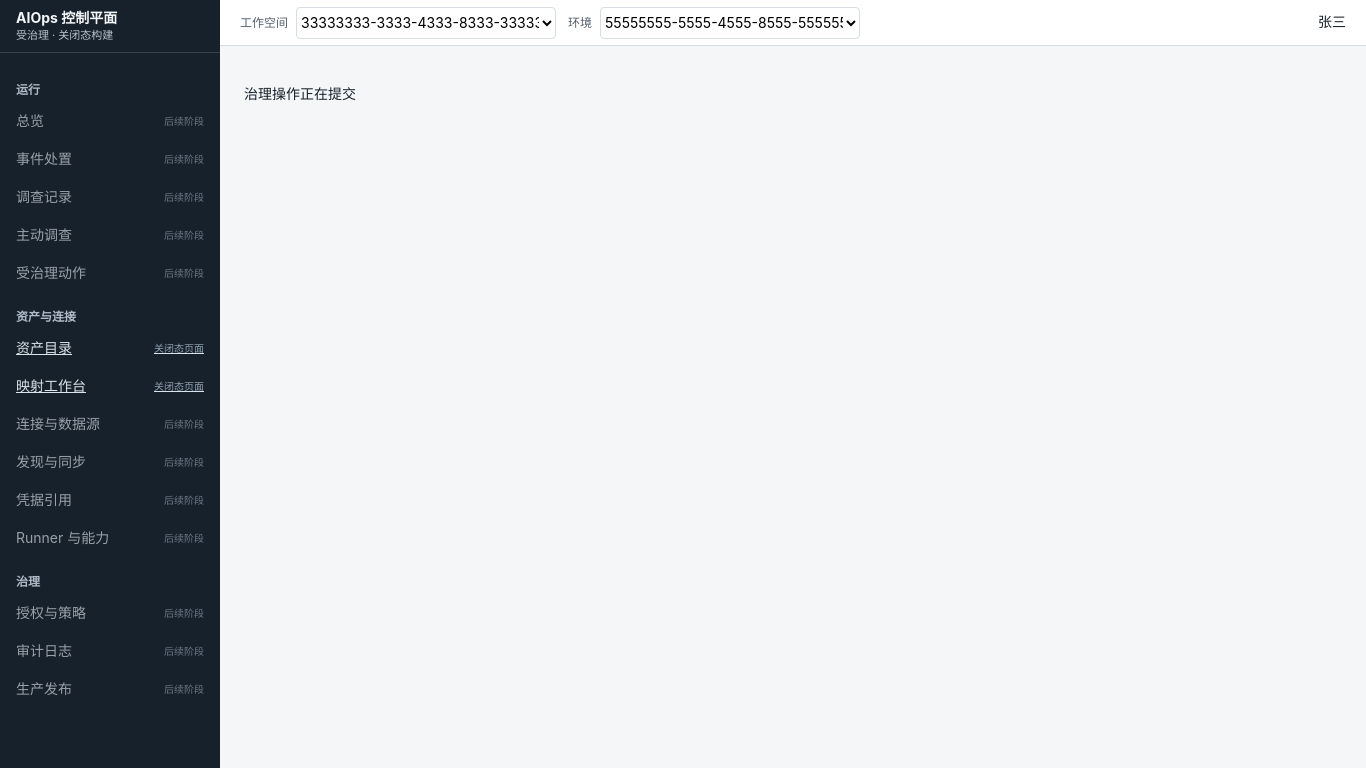
AppShell › keeps scoped queries when a dirty guard cannot be discarded
This screenshot has width=1366, height=768.
Step 1. Select "66666666-6666-4666-8666-666666666666" in the dropdown labelled "环境" → (730, 22), box [600,6,860,38]
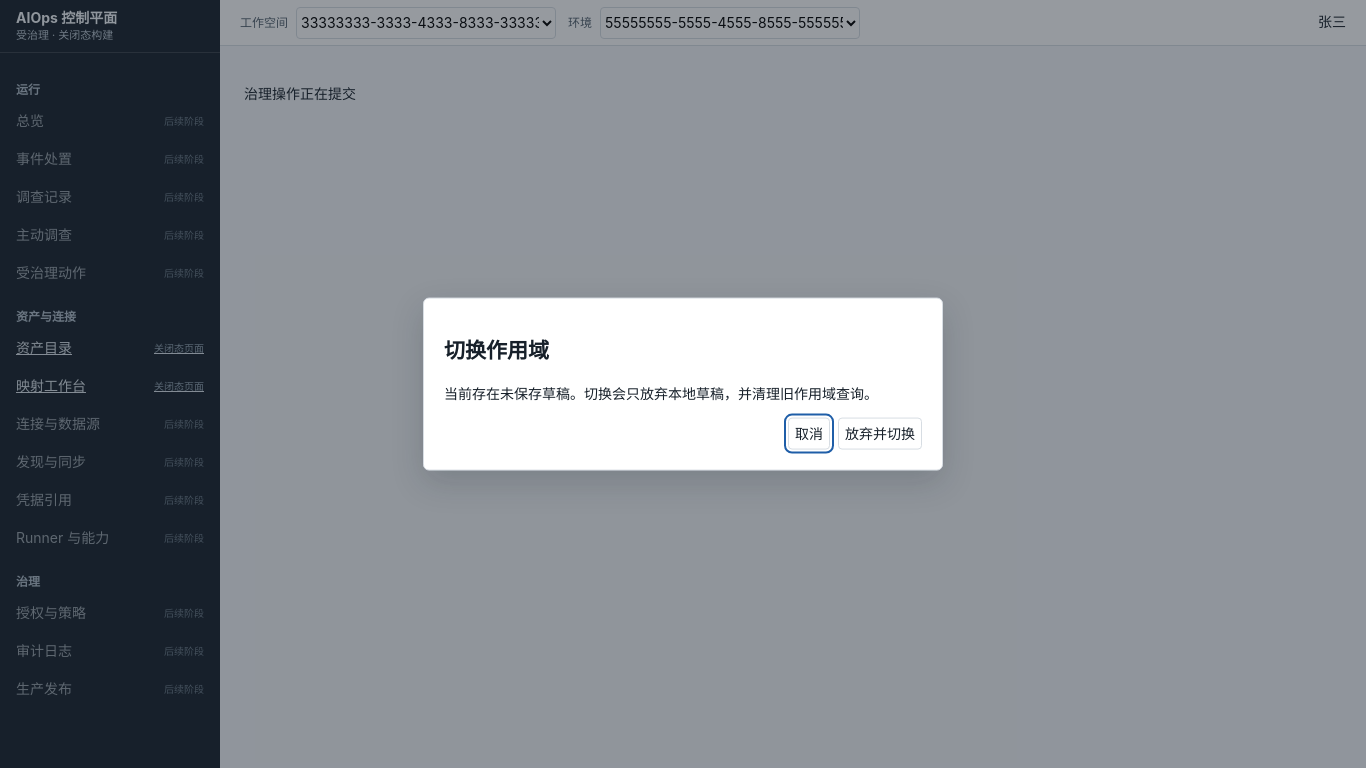
Step 2. Click the button "放弃并切换" → click(880, 433), box [838,417,922,449]
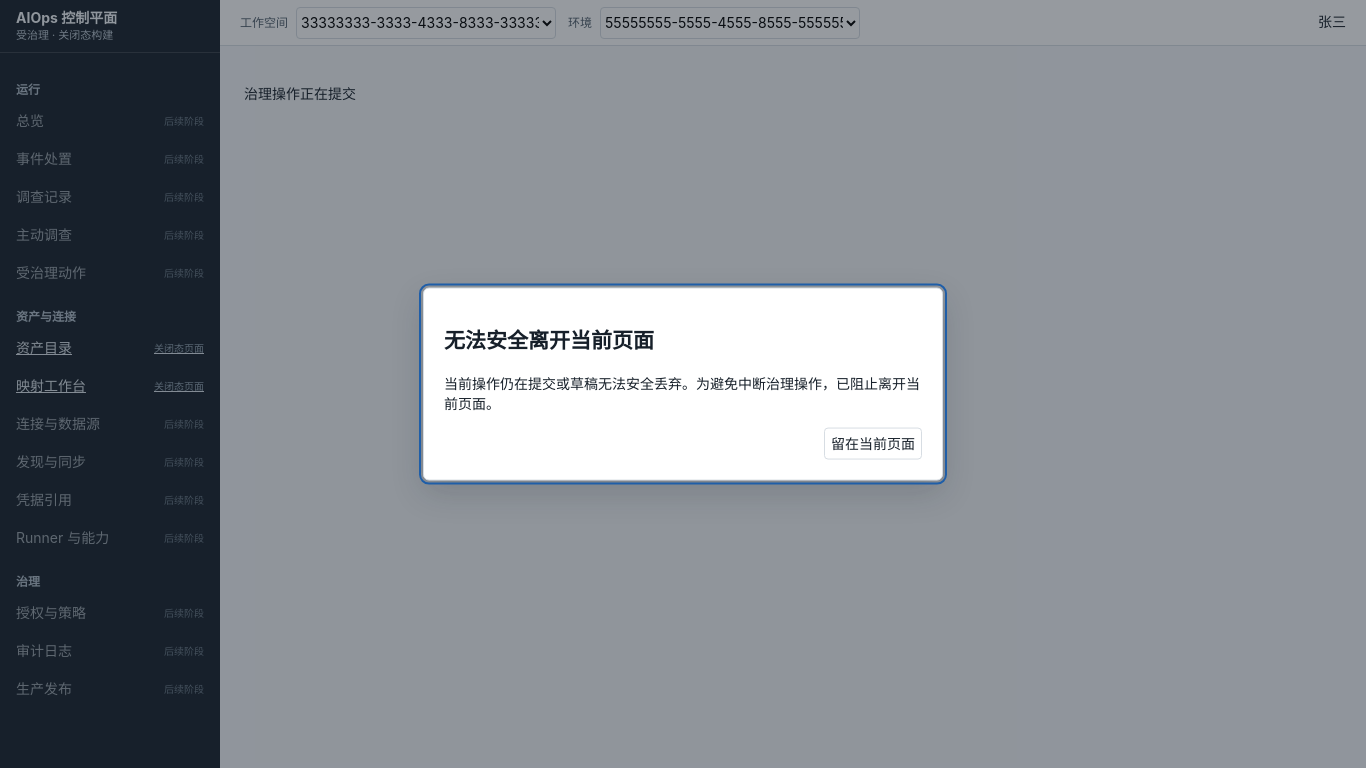
Expected: the dialog "无法安全离开当前页面" is shown, [423,288,943,480]
